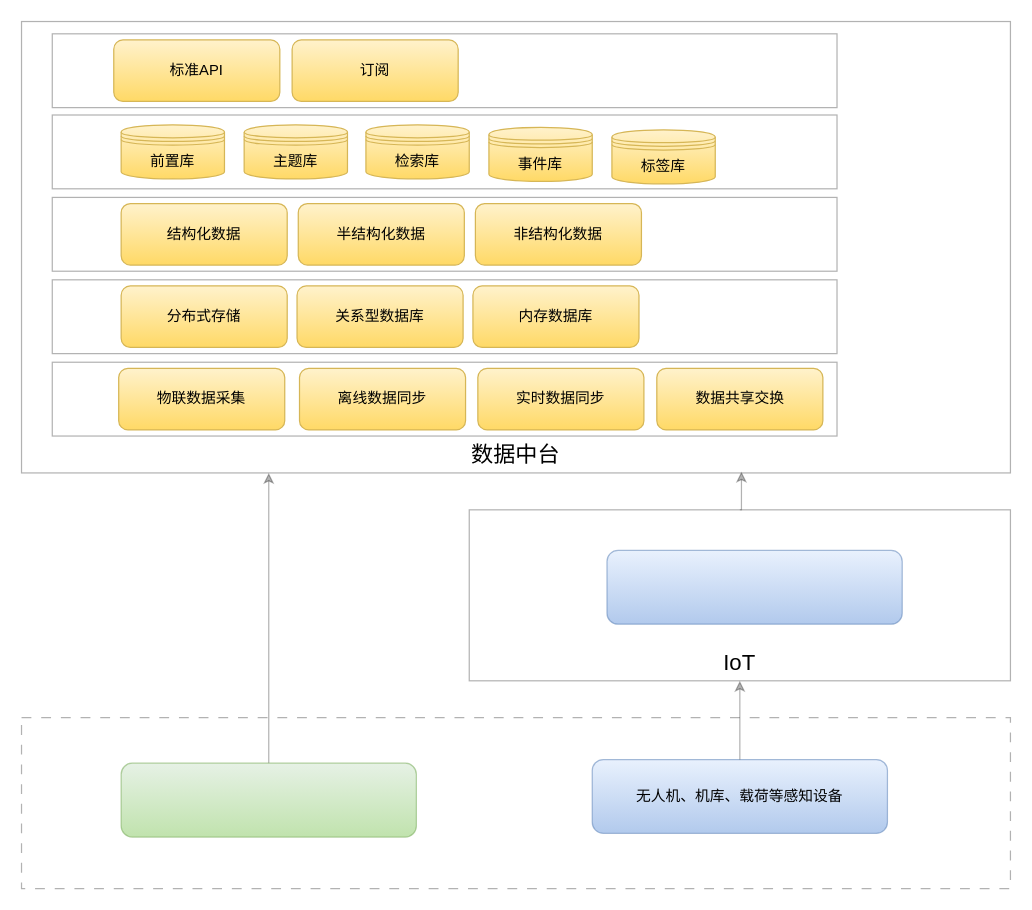
Image size: 1032x910. Some labels were removed from this diagram. The box of each missing label's shape, as (x1, y1, x2, y2) in pixels:
AI中台 检测结果: (120, 762, 416, 837)
各类感知协议数据通信协议适配和转换: (606, 549, 902, 624)
数据 仓库: (51, 114, 837, 189)
数据 处理: (51, 196, 837, 271)
数据 存储计算: (51, 279, 837, 354)
数据 接入: (51, 361, 837, 436)
数据 服务: (51, 33, 837, 108)
数据源: (20, 716, 1010, 889)
